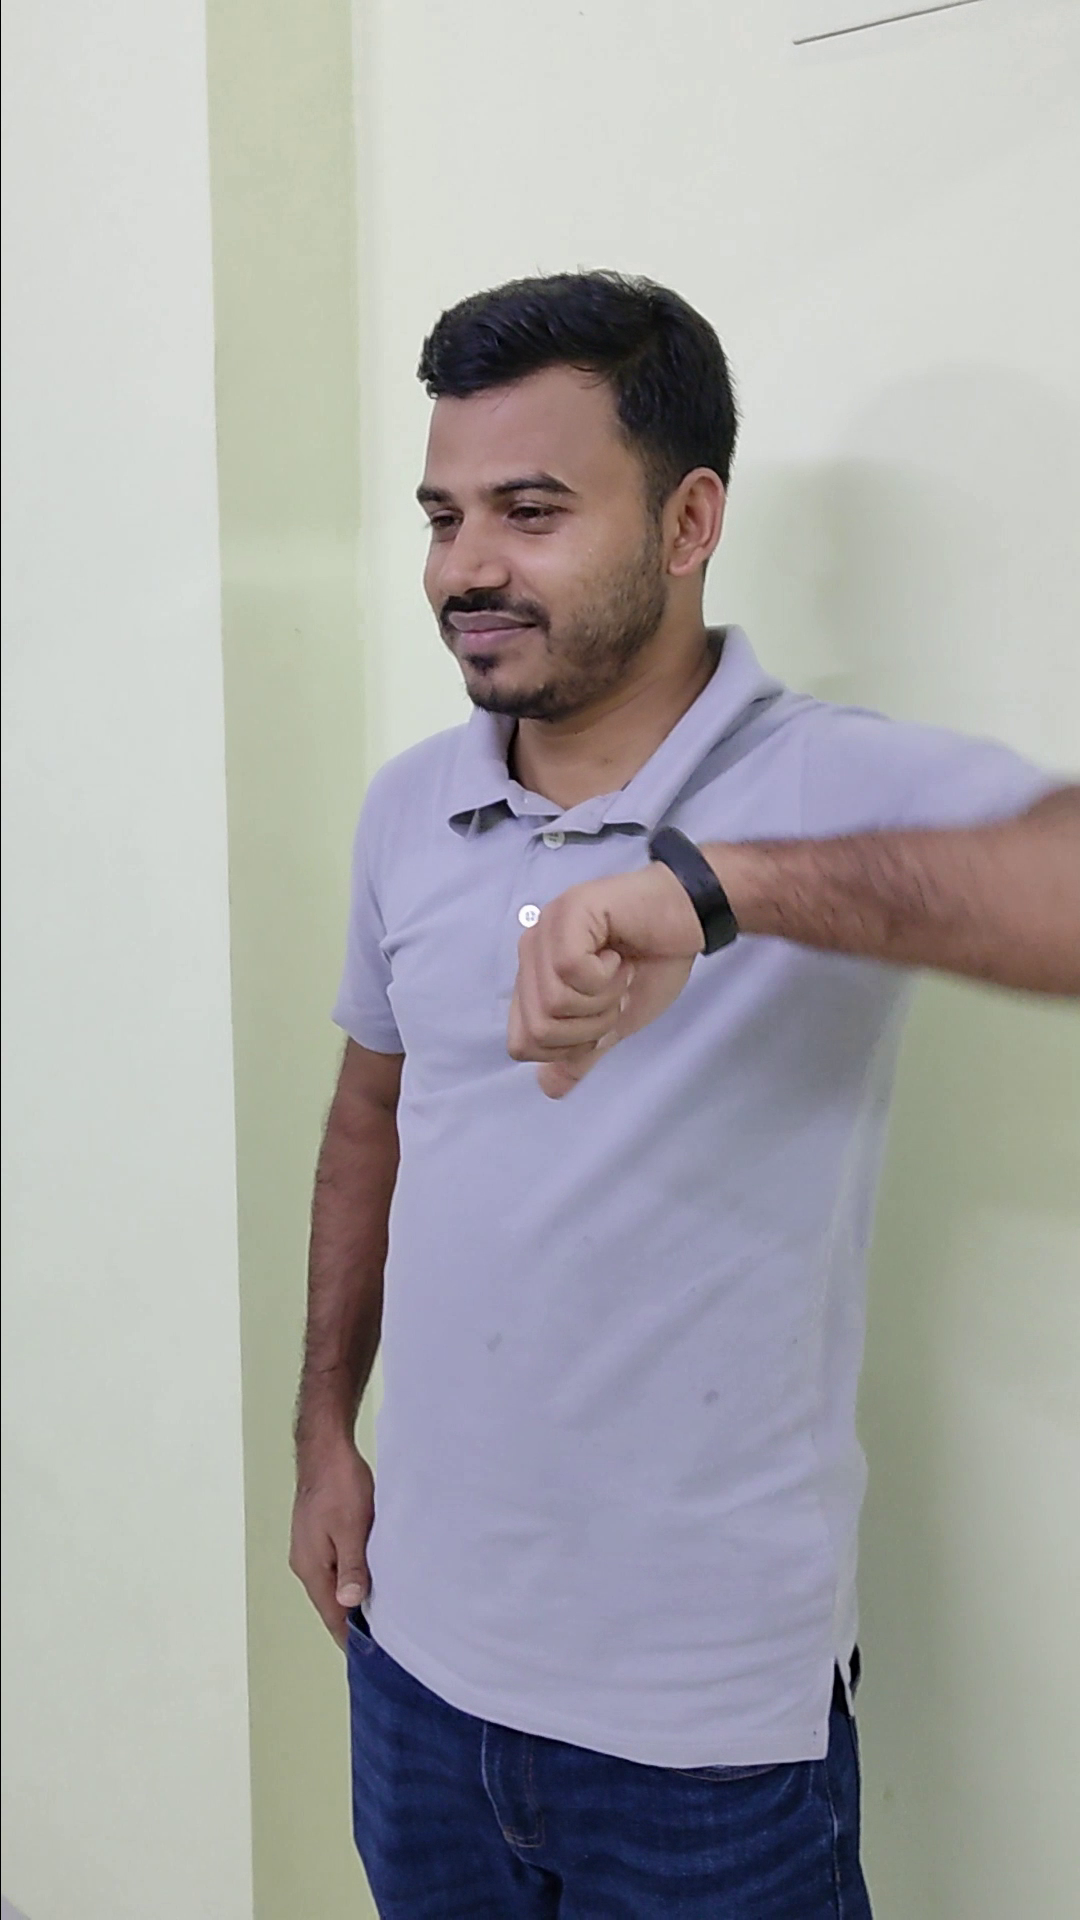Dislike: (483, 829, 756, 1116)
None: (261, 1379, 407, 1672)
